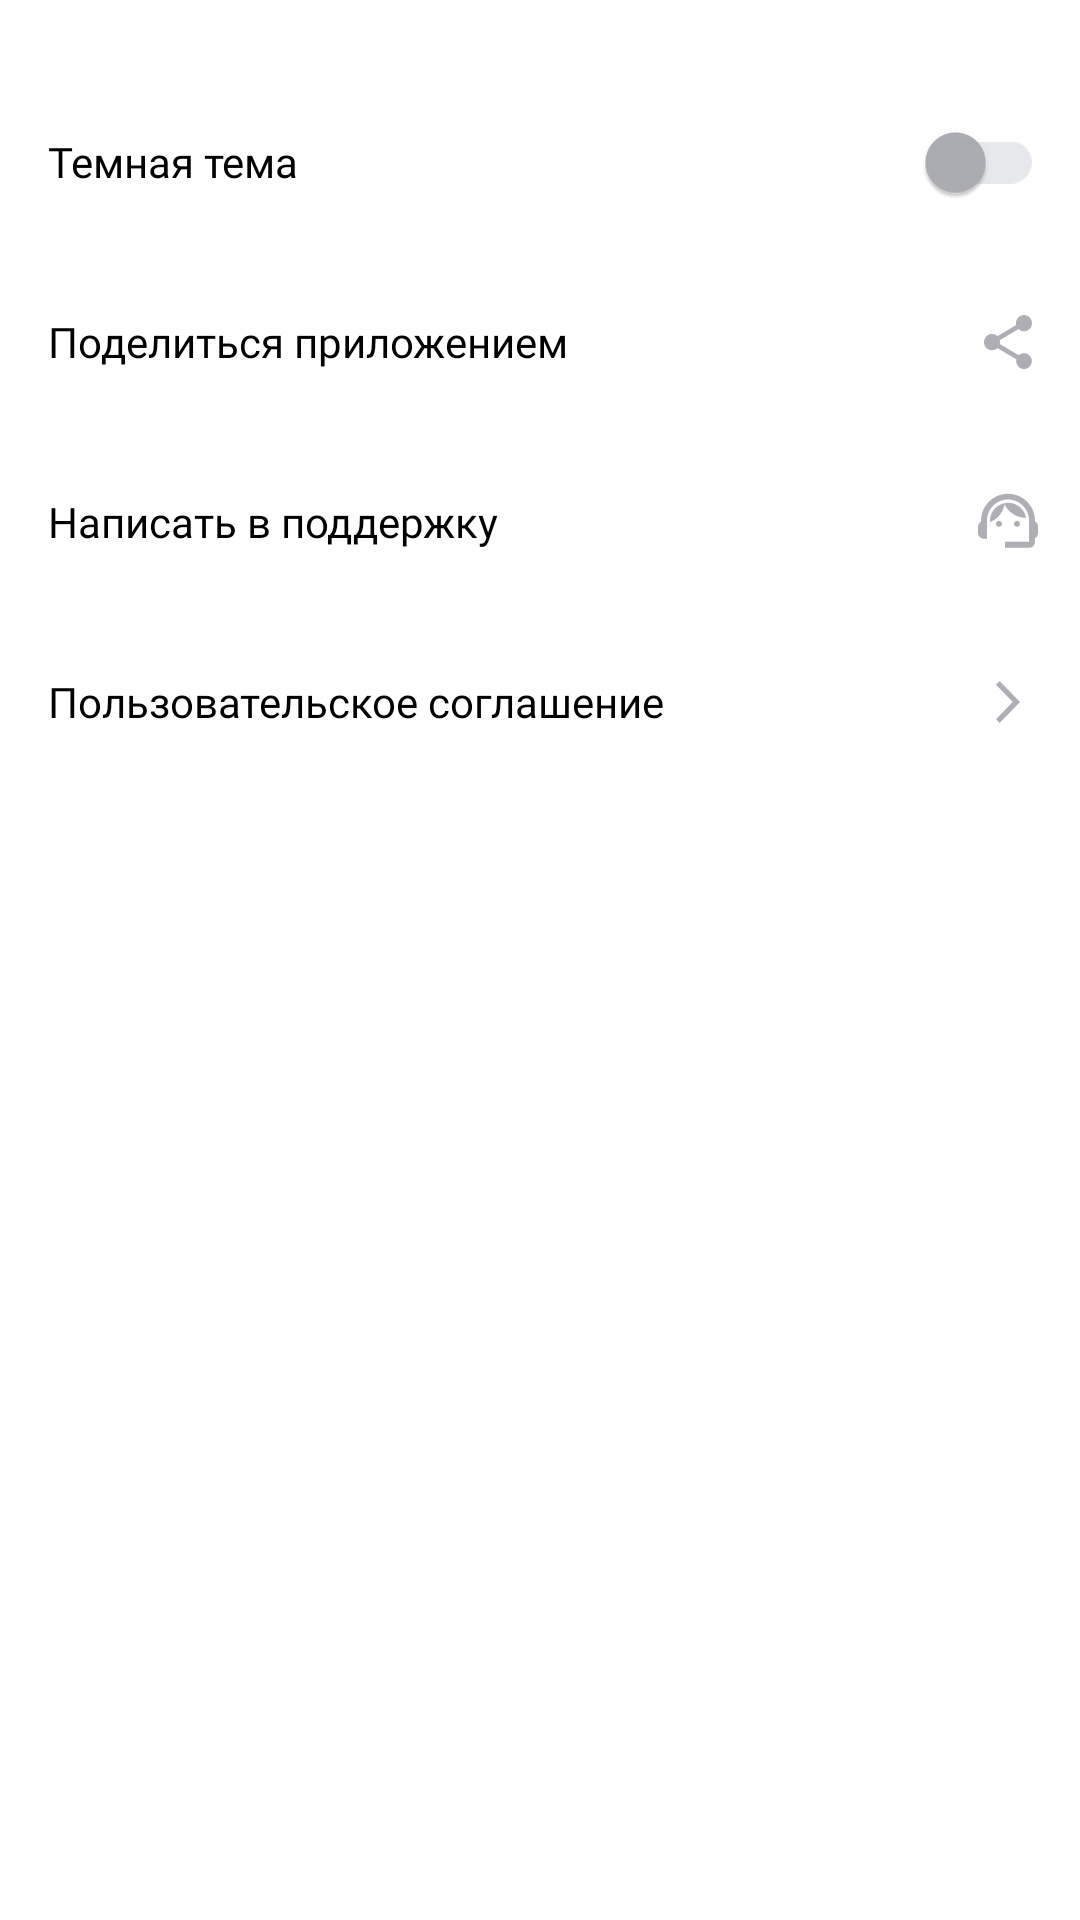

Icon click points for this 1080px×1920px phone screenshot, format point (x, y):
arrow forvard: point (1008, 702)
share: point (1008, 342)
support: point (1008, 521)
